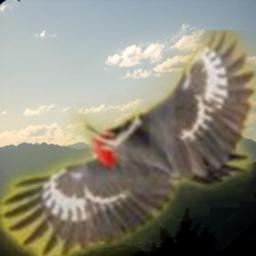Woodpecker: (0, 30, 256, 256)
